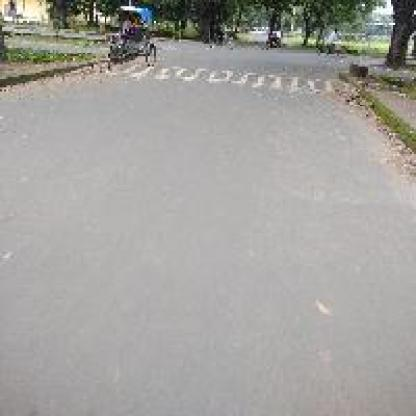Speed Bump: (158, 58, 341, 98)
